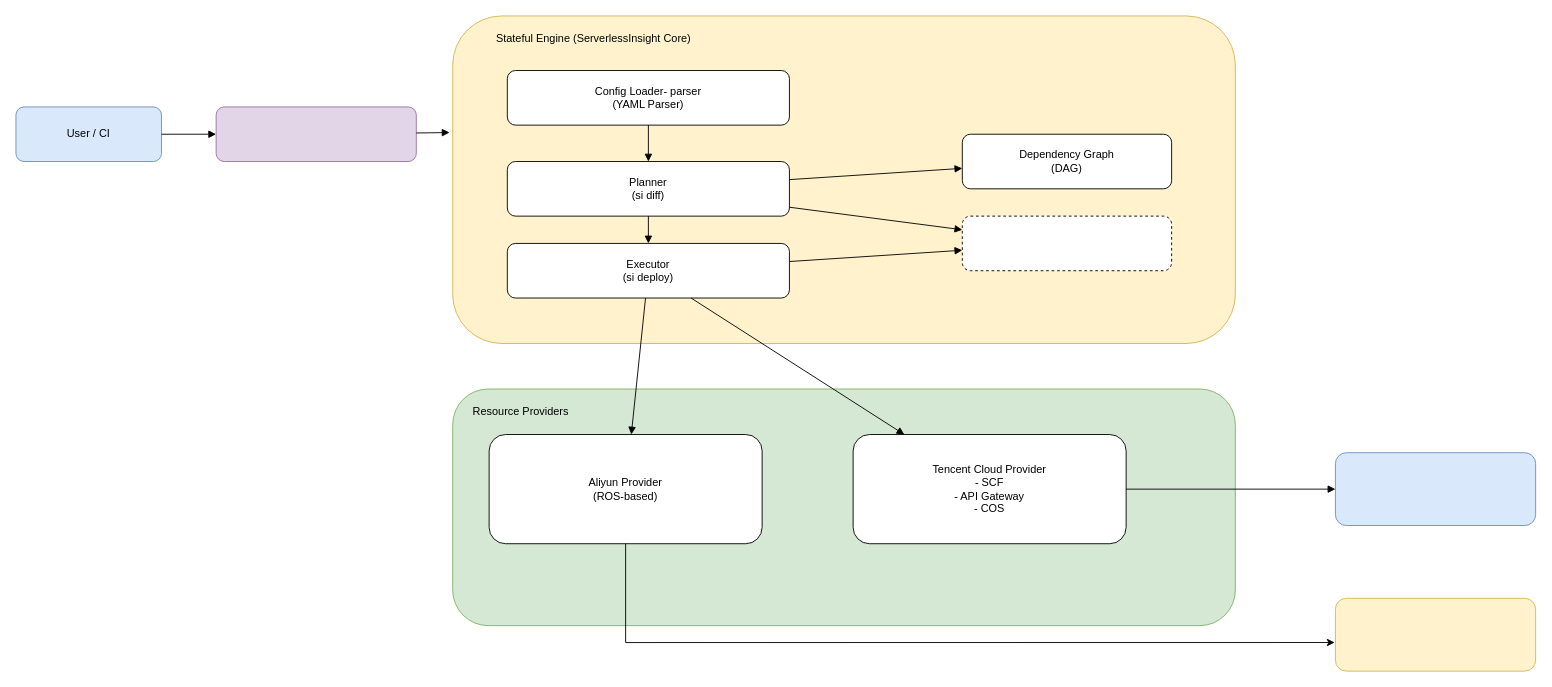
Some shapes in this 1552 by 687 pixel diagram are drawn without their labels. Each missing label, with the centre of its shape:
"@alicloud/ros-cdk" goes at pixel 1435 634.
"ServerlessInsight CLI (si)" goes at pixel 315 134.
"State Manager (local JSON / future backend)" goes at pixel 1066 243.
"tencentcloud-sdk-nodejs" goes at pixel 1435 489.
